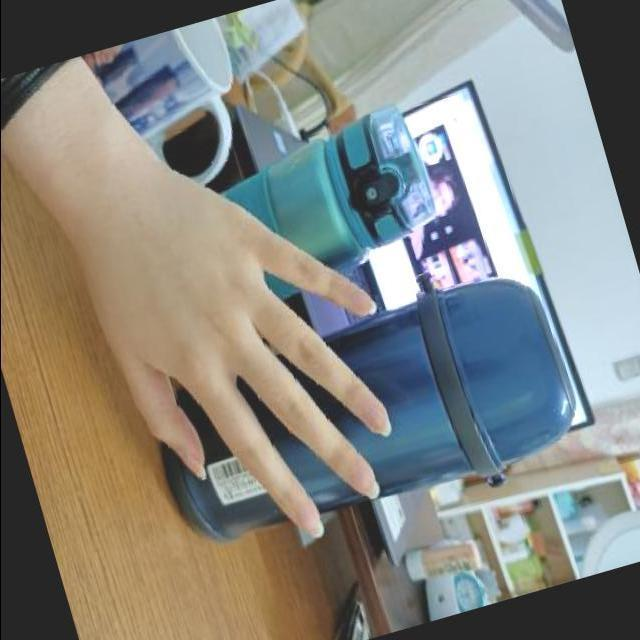hand: (29, 102, 452, 587)
